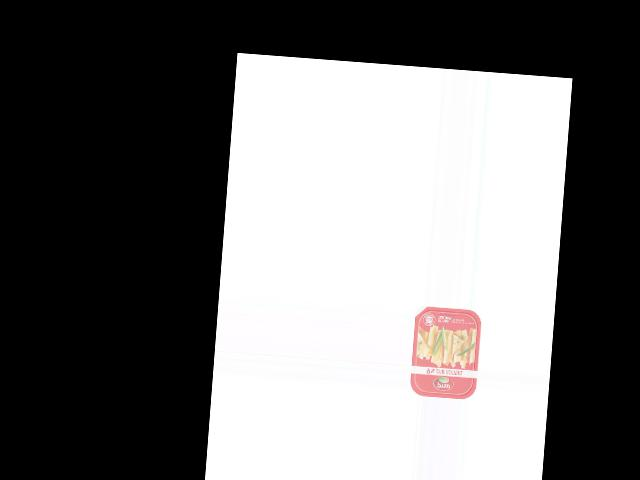cheese: (409, 305, 483, 400)
